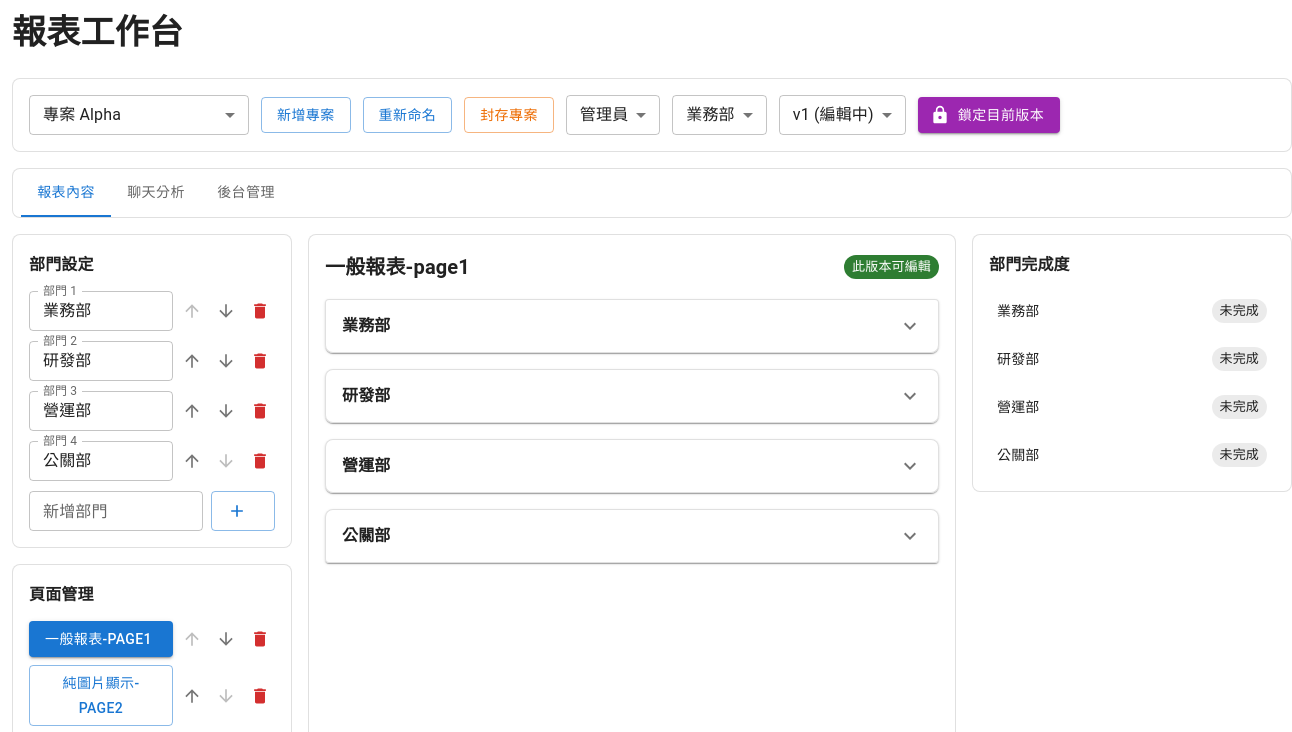
ReportWorkspacePage backend management tab › shows management sub-tabs when backend management is selected
Click the tab "後台管理". click: (246, 193)
box: [201, 169, 291, 217]
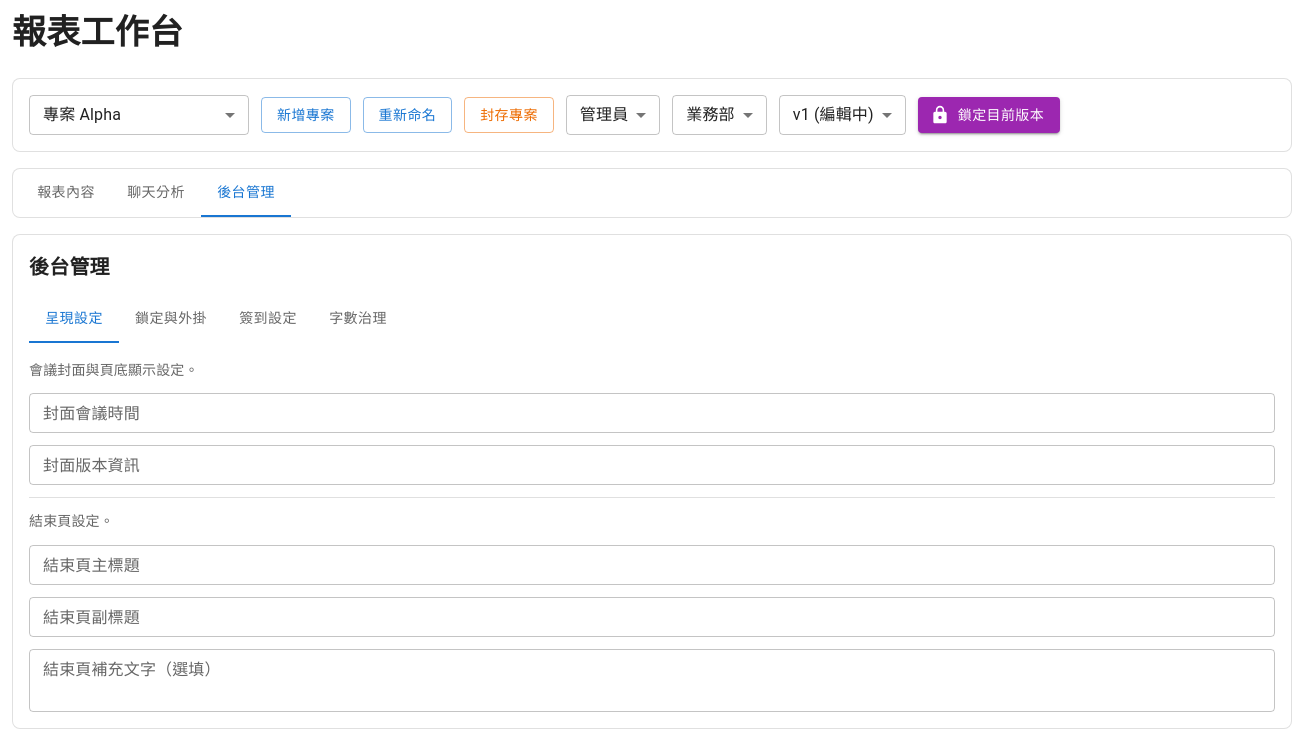
Now the tab "呈現設定" is shown, box [29, 295, 119, 343]
Now the tab "鎖定與外掛" is shown, box [119, 295, 223, 343]
Now the tab "簽到設定" is shown, box [223, 295, 313, 343]
